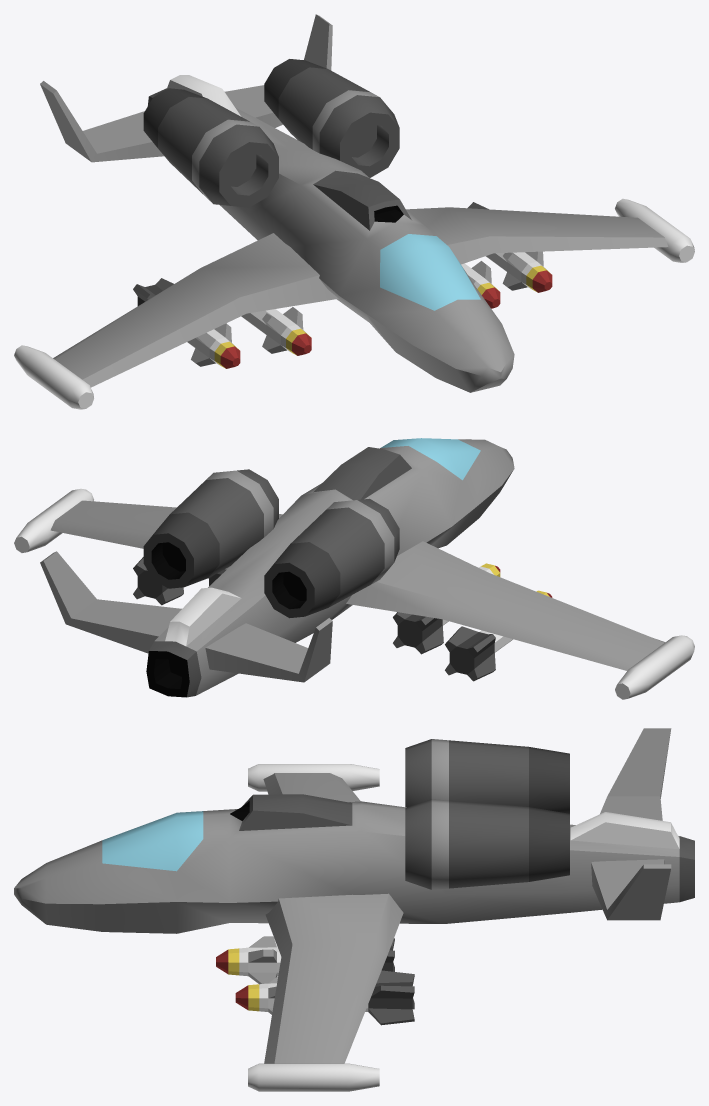
3 views of the same model, one above another, from view 1: azimuth 30°, elevation 25°; view 2: azimuth 150°, elevation 25°; view 3: azimuth 270°, elevation 25° (orthographic). The views are drawn at different scales.
Parts seen in each view (by area): view 1: Plane.076, Plane.077, Cylinder.501, Plane.078, Cylinder.502, Cylinder.514, Cylinder.444; view 2: Plane.076, Cylinder.501, Plane.077, Plane.078, Cylinder.502, Cylinder.514, Cylinder.444; view 3: Plane.076, Cylinder.501, Plane.077, Plane.078, Cylinder.502, Cylinder.514, Cylinder.444.
Part boxes in pixels (x1,y1,x2,y2): Plane.076: [148, 75, 514, 392]; Plane.077: [53, 207, 668, 387]; Cylinder.501: [143, 59, 399, 207]; Plane.078: [40, 14, 332, 162]; Cylinder.502: [14, 198, 694, 409]; Cylinder.514: [133, 202, 552, 368]; Cylinder.444: [241, 261, 500, 355]; Plane.076: [146, 438, 514, 697]; Cylinder.501: [143, 469, 399, 618]; Plane.077: [50, 500, 664, 670]; Plane.078: [40, 551, 332, 682]; Cylinder.502: [14, 488, 694, 699]; Cylinder.514: [133, 557, 552, 681]; Cylinder.444: [208, 563, 500, 654]; Plane.076: [14, 794, 694, 933]; Cylinder.501: [405, 739, 569, 889]; Plane.077: [263, 773, 403, 1063]; Plane.078: [591, 728, 671, 920]; Cylinder.502: [248, 764, 379, 1091]; Cylinder.514: [235, 970, 414, 1025]; Cylinder.444: [216, 936, 394, 984].
Size of the model in its own units: 2362 by 595 by 2176.
